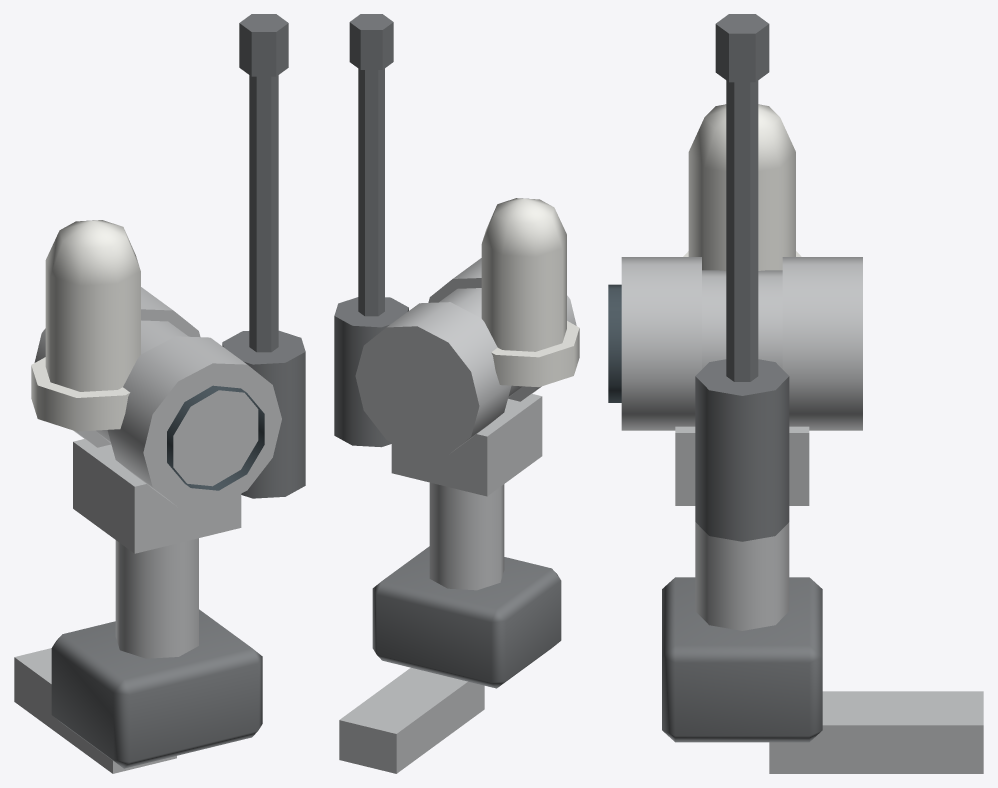
The model's file is sensor_bracket.glb.
3 renders of one model, left to right at view 1: azimuth 30°, elevation 25°; view 2: azimuth 150°, elevation 25°; view 3: azimuth 270°, elevation 25°, orthographic. The views are drawn at different scales.
Visible parts, largest first — view 1: SENSOR_KIT_steel, SENSOR_KIT_steel_dark, SENSOR_KIT_light, SENSOR_KIT_glass; view 2: SENSOR_KIT_steel, SENSOR_KIT_steel_dark, SENSOR_KIT_light; view 3: SENSOR_KIT_steel, SENSOR_KIT_steel_dark, SENSOR_KIT_light, SENSOR_KIT_glass.
Boxes of the visible parts, x1,y1,x2,y2 form: SENSOR_KIT_steel: (14,287,281,773); SENSOR_KIT_steel_dark: (51,14,305,768); SENSOR_KIT_light: (31,220,140,431); SENSOR_KIT_glass: (167,385,264,490); SENSOR_KIT_steel: (339,258,576,773); SENSOR_KIT_steel_dark: (334,14,561,688); SENSOR_KIT_light: (481,198,579,387); SENSOR_KIT_steel: (621,257,983,773); SENSOR_KIT_steel_dark: (662,14,822,742); SENSOR_KIT_light: (683,104,801,270); SENSOR_KIT_glass: (608,284,621,402).
Size of the model in its own units: 0.247 by 0.65 by 0.28.
